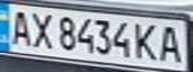3: (90, 17, 115, 56)
4: (112, 19, 133, 58), (75, 16, 96, 54)
8: (54, 12, 78, 52)
A: (154, 22, 187, 64), (3, 7, 36, 47)
K: (130, 20, 160, 61)
X: (27, 9, 57, 51)
